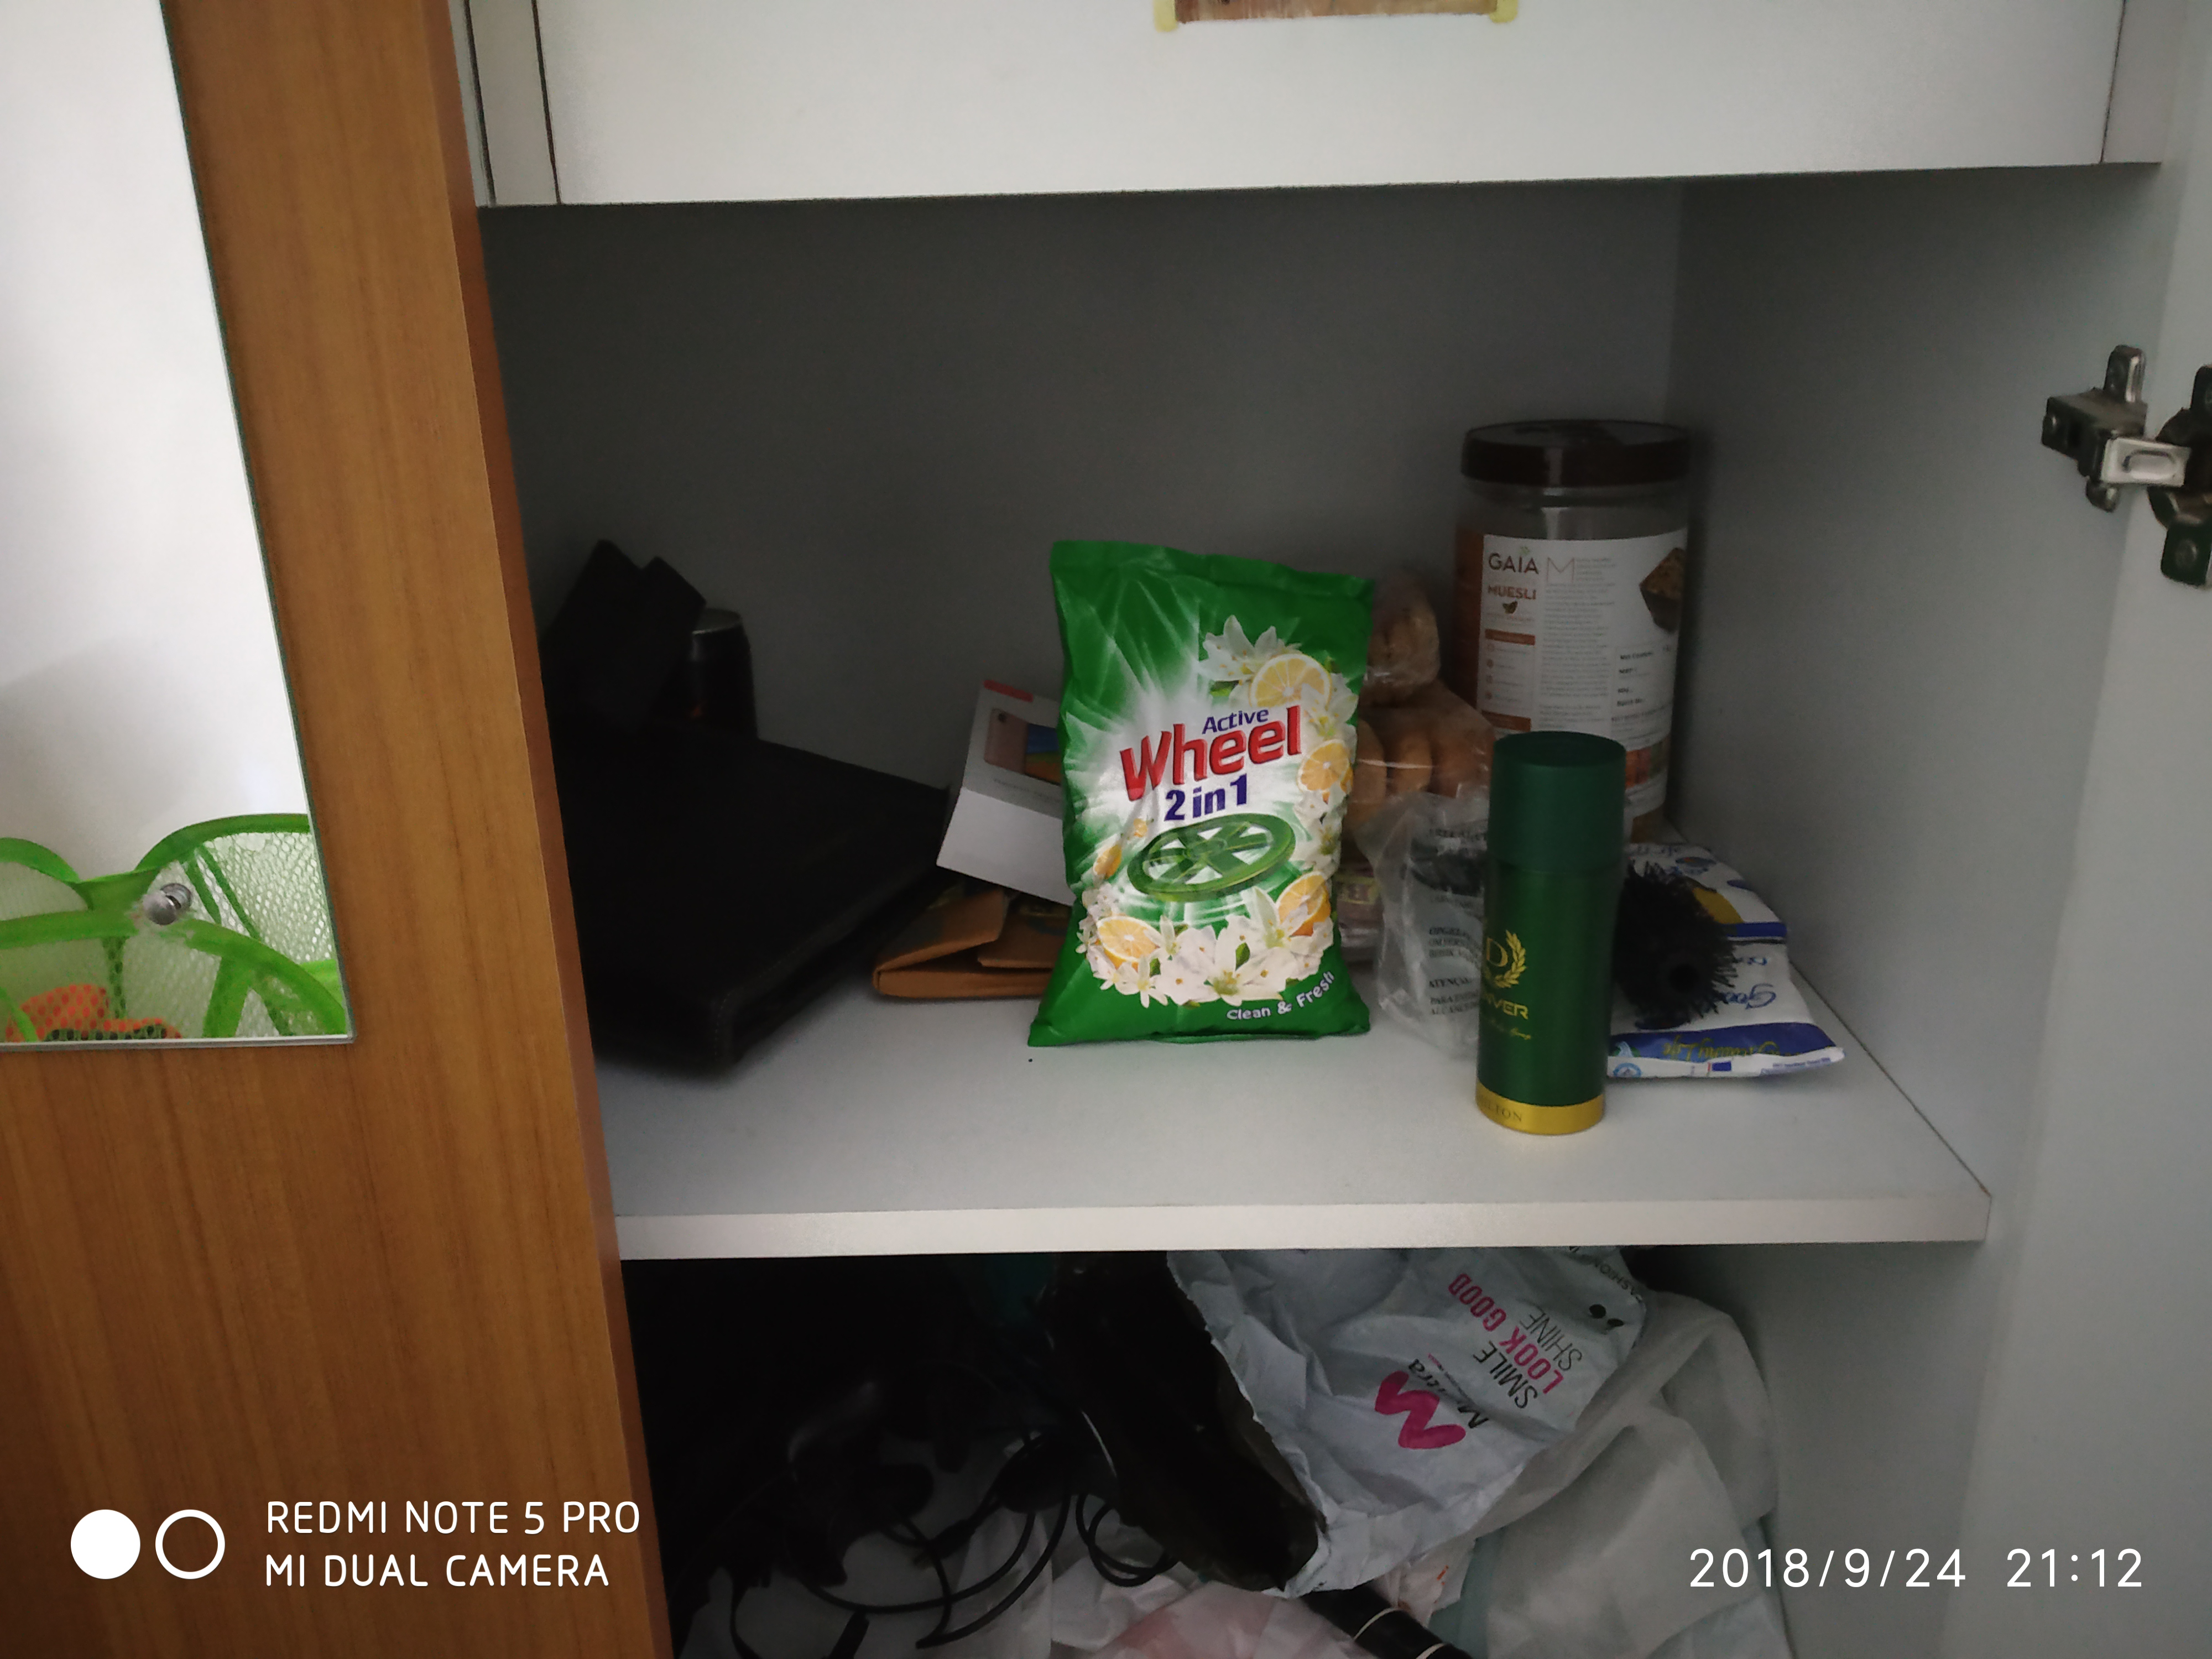detergent: (1030, 533, 1379, 1043)
